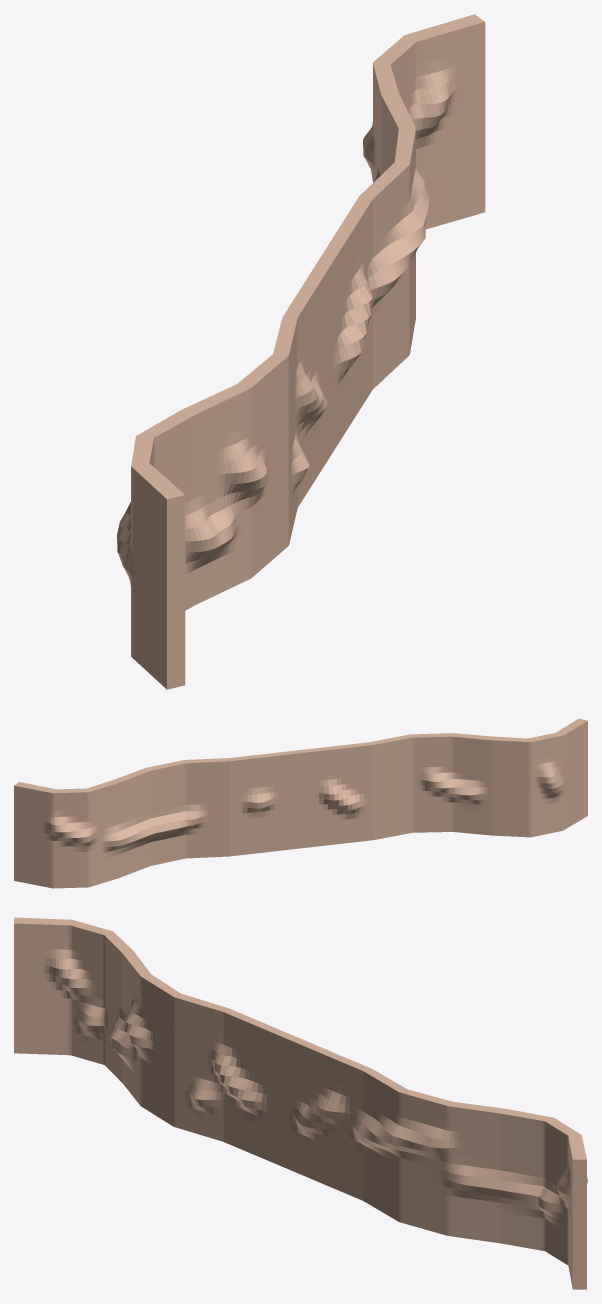
File: structure_railingdiagonal.fbx
3 views of the same model, one above another, from view 1: azimuth 30°, elevation 25°; view 2: azimuth 150°, elevation 25°; view 3: azimuth 270°, elevation 25° (orthographic). The views are drawn at different scales.
Parts seen in each view (by area): view 1: railingdiagonal_wall_LOD0; view 2: railingdiagonal_wall_LOD0; view 3: railingdiagonal_wall_LOD0.
Boxes of the visible parts, left/top/right/bottom form: railingdiagonal_wall_LOD0: left=117, top=14, right=485, bottom=689; railingdiagonal_wall_LOD0: left=14, top=718, right=587, bottom=888; railingdiagonal_wall_LOD0: left=14, top=917, right=587, bottom=1289.
Size of what is drawn, in the model's own units: 400 by 100 by 401.
1 material, 1 textured.
